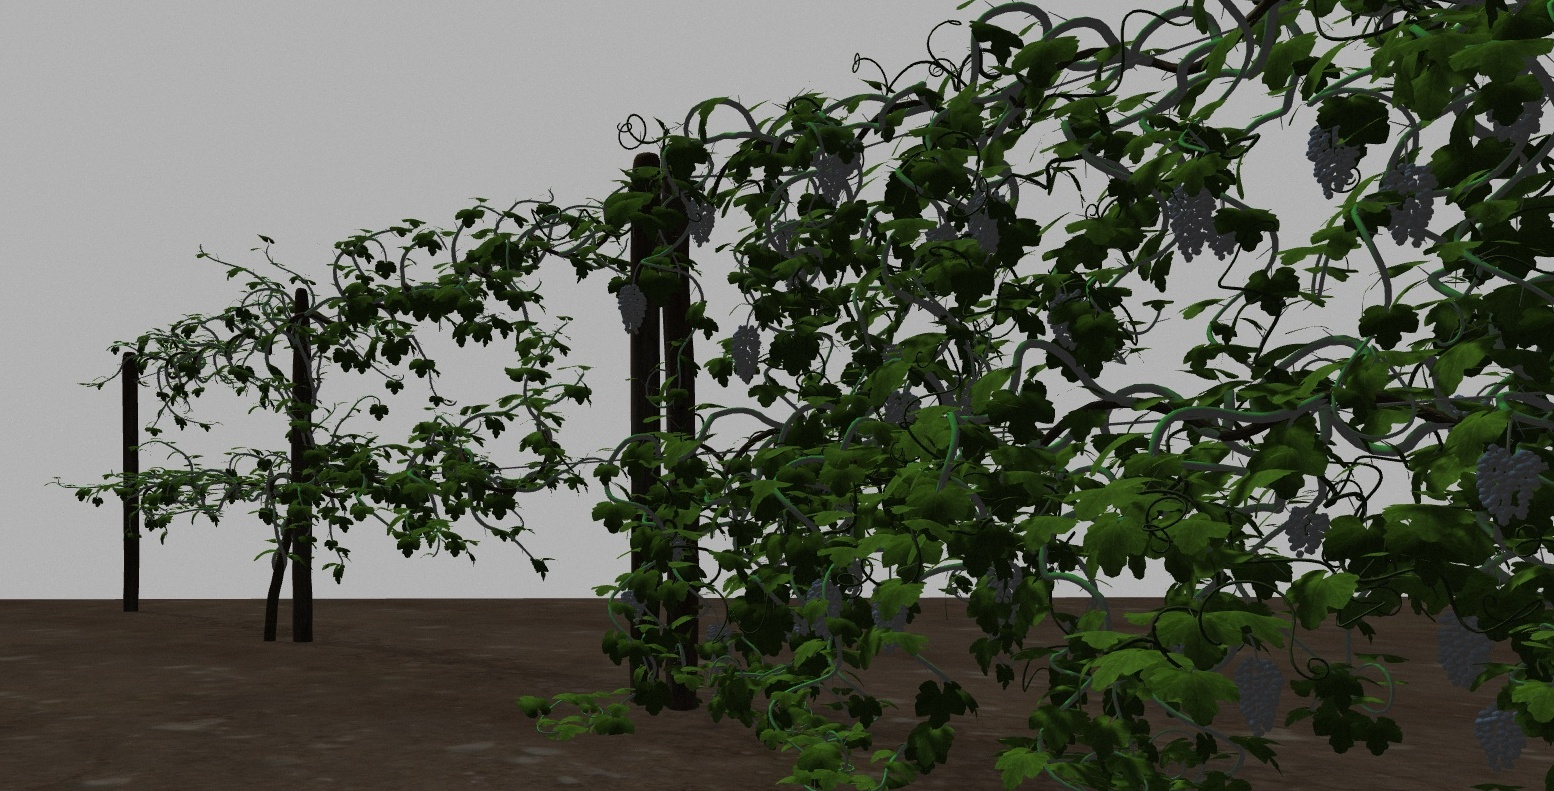grape: (1471, 444, 1548, 525), (1378, 161, 1435, 248), (1437, 609, 1495, 689), (1304, 122, 1362, 200), (1230, 656, 1286, 736), (1474, 701, 1528, 774), (1165, 181, 1212, 261), (1486, 96, 1547, 142), (806, 576, 844, 641), (966, 191, 1003, 255), (1284, 507, 1330, 557), (727, 325, 762, 387), (686, 191, 717, 247), (619, 280, 647, 338), (818, 152, 848, 204), (882, 388, 919, 431), (1204, 215, 1236, 261), (620, 590, 647, 621)
